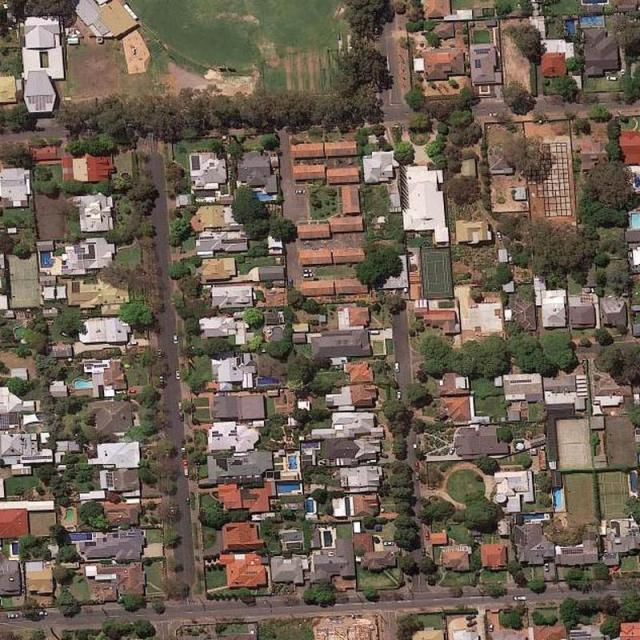vehicle: (183, 460, 189, 475), (495, 230, 502, 240), (606, 76, 618, 81), (179, 411, 184, 422), (294, 190, 306, 194), (514, 597, 526, 601), (367, 330, 379, 334), (303, 273, 314, 277), (395, 362, 399, 373), (8, 614, 19, 618), (38, 612, 49, 616), (289, 278, 294, 286), (174, 334, 178, 344), (176, 371, 181, 379), (160, 376, 164, 386), (181, 448, 186, 456), (414, 462, 419, 470), (384, 542, 394, 546), (302, 269, 311, 273), (129, 342, 138, 346), (425, 531, 429, 540), (449, 448, 455, 454), (545, 563, 549, 572), (490, 112, 498, 116), (398, 391, 402, 399), (158, 350, 162, 358), (178, 402, 182, 410), (422, 548, 426, 556), (490, 625, 494, 632), (415, 472, 418, 480), (622, 67, 625, 75), (186, 498, 190, 503), (129, 390, 137, 392)
